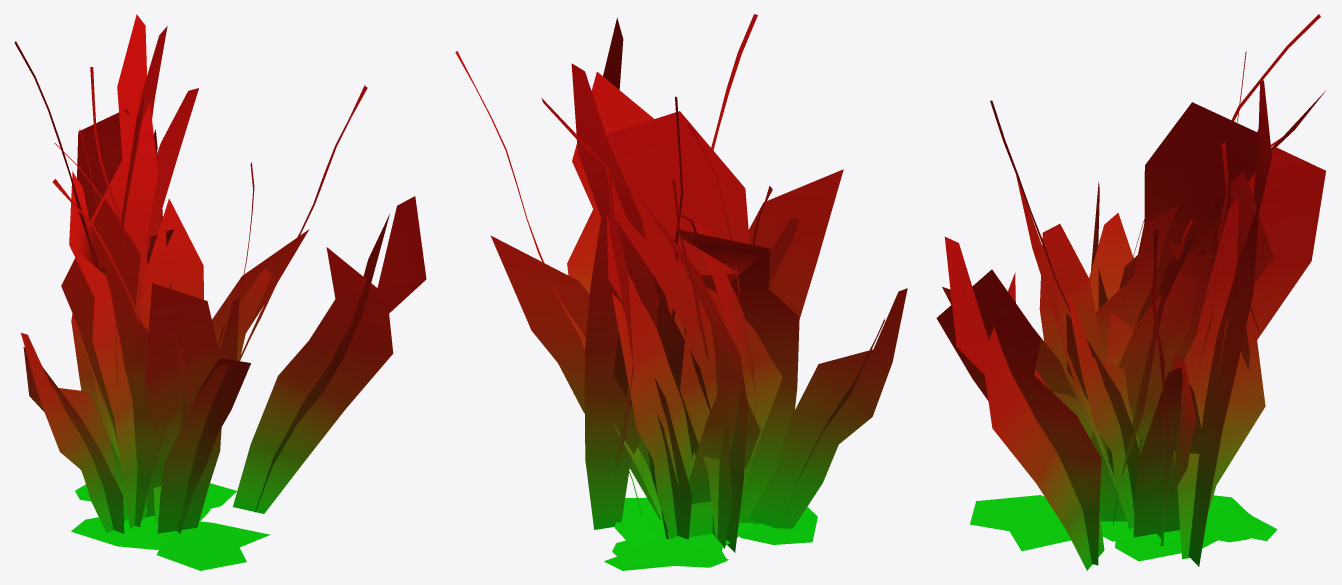
The model's file is uddmcgbia_Var13_LOD0.fbx.
3 views of the same model, side by side, from view 1: azimuth 30°, elevation 25°; view 2: azimuth 150°, elevation 25°; view 3: azimuth 270°, elevation 25° (orthographic). The views are drawn at different scales.
Visible parts, largest first — view 1: _c041_Var13_LOD0; view 2: _c041_Var13_LOD0; view 3: _c041_Var13_LOD0.
Boxes of the visible parts, x1=… form: _c041_Var13_LOD0: x1=14, y1=14, x2=426, y2=570; _c041_Var13_LOD0: x1=455, y1=14, x2=907, y2=570; _c041_Var13_LOD0: x1=936, y1=14, x2=1325, y2=570.
Bounding box in the file's own units: 11.48 × 12.98 × 9.43.
